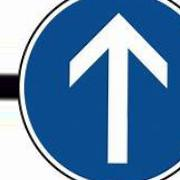forward: (18, 1, 180, 180)
